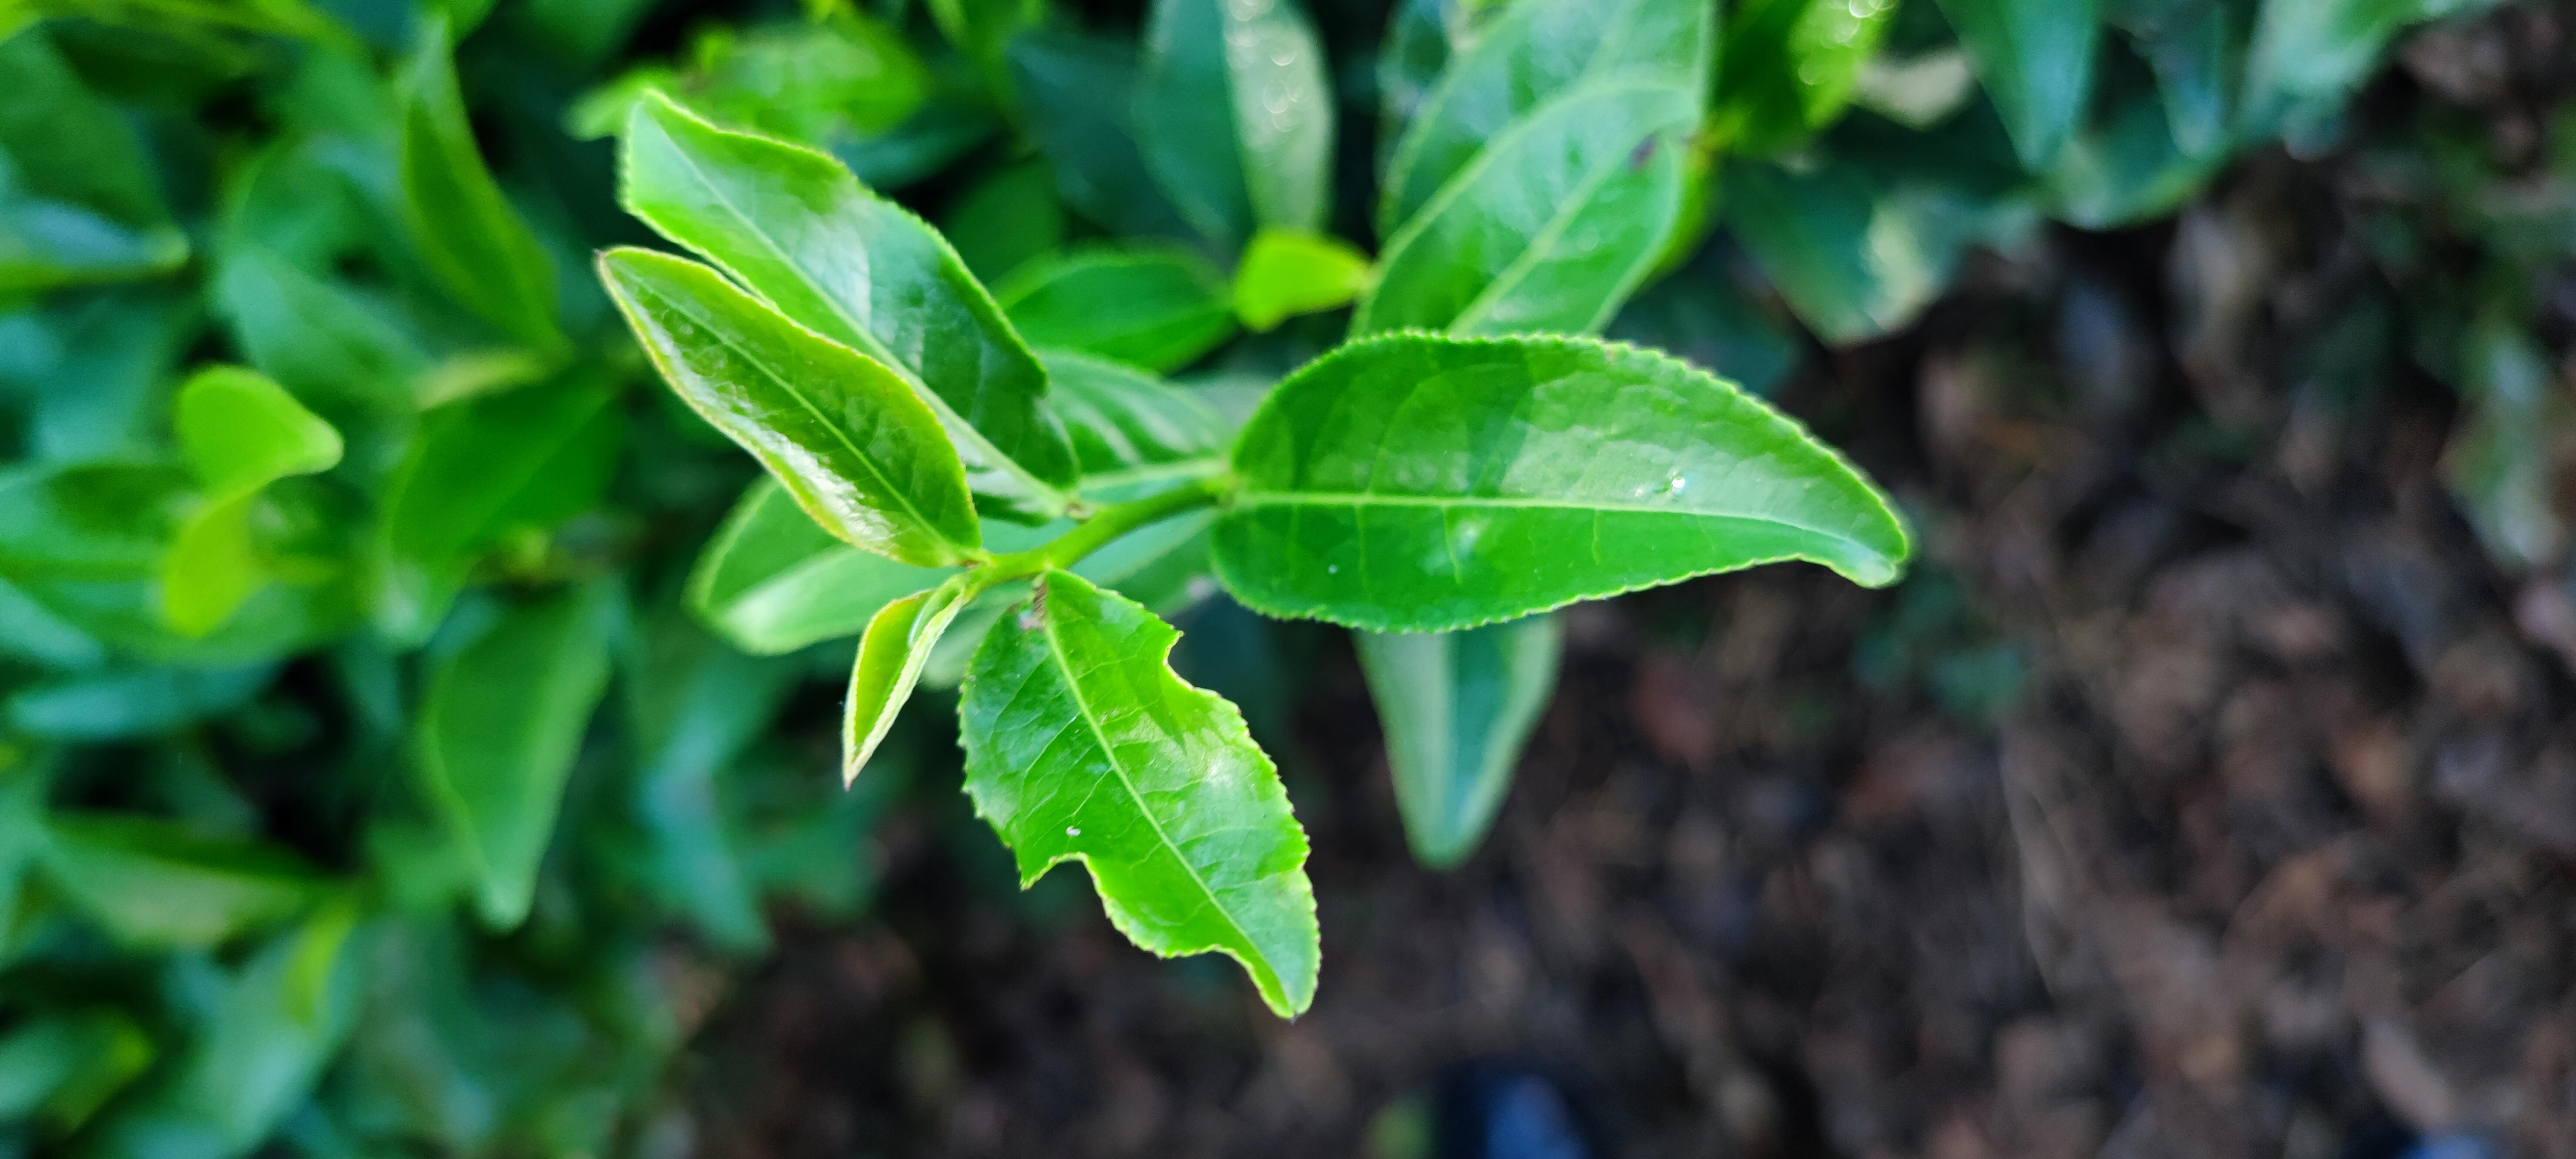chihuo_low: (958, 568, 1324, 1018)
healthy: (1209, 330, 1919, 639), (591, 240, 981, 568)
tanju_low: (841, 575, 968, 798)
